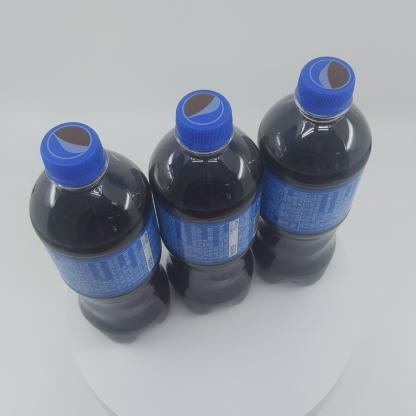------600ML: (29, 122, 170, 343), (250, 57, 372, 286), (148, 90, 264, 315)
